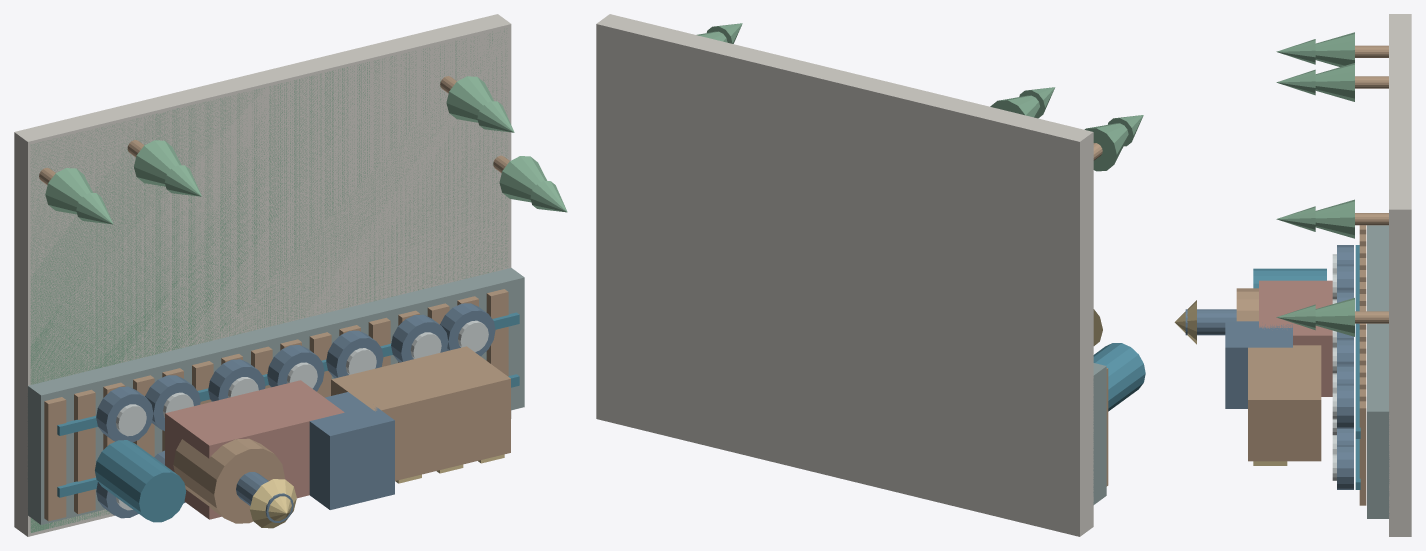
Rendered from alishan_railway.glb.
3 renders of one model, left to right at view 1: azimuth 30°, elevation 25°; view 2: azimuth 150°, elevation 25°; view 3: azimuth 270°, elevation 25°, orthographic. The views are drawn at different scales.
Parts seen in each view (by area): view 1: g0, g1, g2, g27, g21, g23, g22, g26, g3, g4, g30, g25 (+21 smaller); view 2: g0, g26, g2, g60, g63; view 3: g0, g27, g2, g21, g23, g63, g66, g69, g60, g26, g24, g20 (+17 smaller).
Part boxes in pixels (x1,y1,x2,y2): g0: (14,14,511,536); g1: (30,30,508,532); g2: (27,268,524,524); g27: (331,346,510,480); g21: (165,380,344,519); g23: (309,392,394,509); g22: (173,438,284,523); g26: (95,440,186,522); g3: (44,397,66,521); g4: (74,389,95,513); g30: (96,386,153,442); g25: (250,479,296,528); g0: (596,14,1093,536); g26: (1093,343,1145,411); g2: (1093,363,1106,505); g60: (1084,123,1128,171); g63: (990,95,1039,117); g0: (1389,14,1411,536); g27: (1248,345,1321,461); g2: (1367,225,1389,518); g21: (1259,280,1332,396); g23: (1225,321,1292,408); g63: (1315,63,1354,101); g66: (1315,199,1354,238); g69: (1315,298,1354,336); g60: (1315,32,1354,66); g26: (1253,268,1326,288); g24: (1185,309,1236,335); g20: (1355,245,1360,438).
Bounding box in the file's own units: 84 × 64 × 42.
